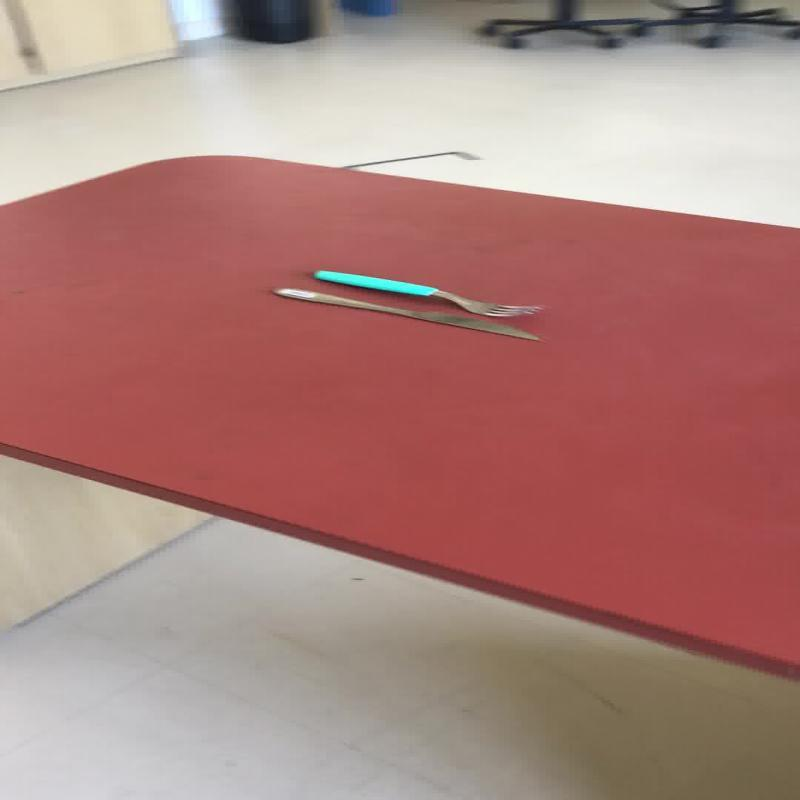fork: (310, 268, 543, 317)
knife: (269, 286, 542, 342)
